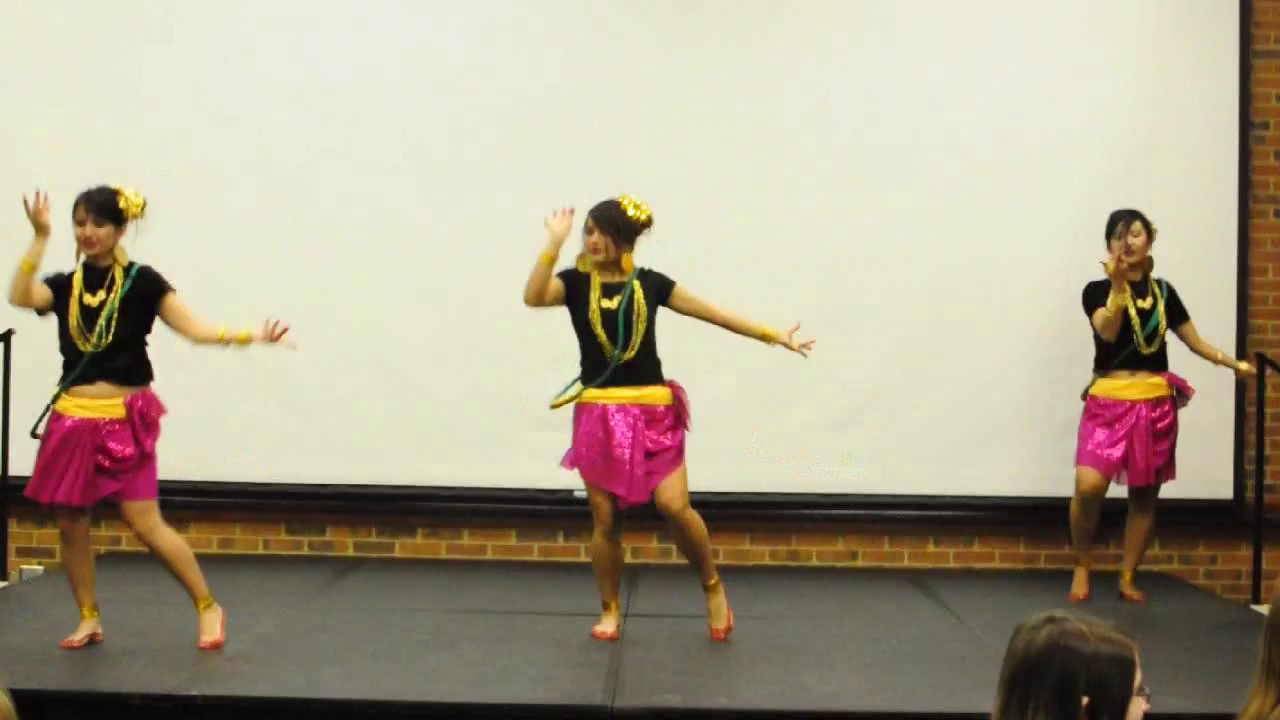person: (9, 184, 289, 650), (523, 194, 814, 642), (1062, 210, 1272, 601)
